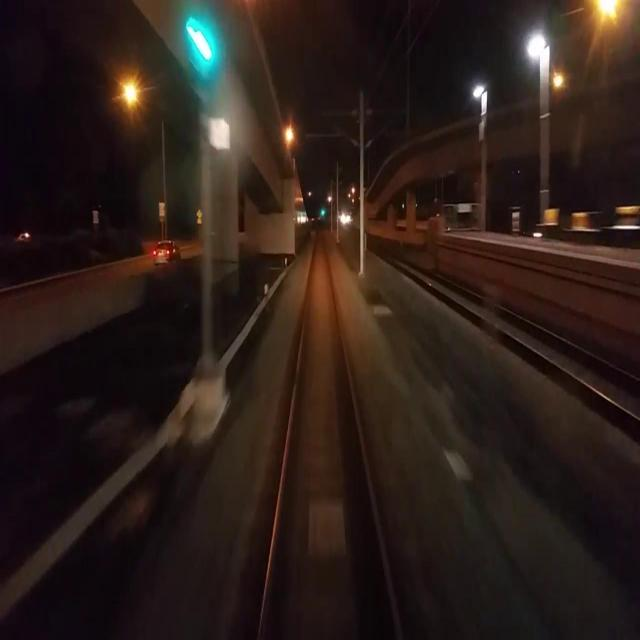rail-track: (367, 240, 640, 416), (270, 228, 385, 575)
